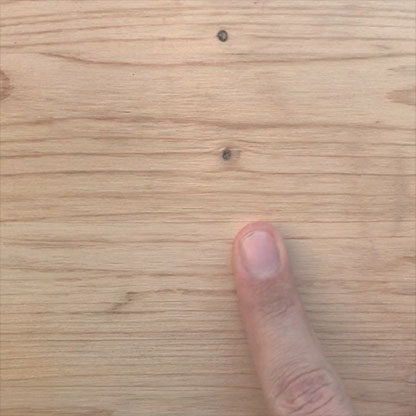fingertip: (218, 213, 306, 297)
